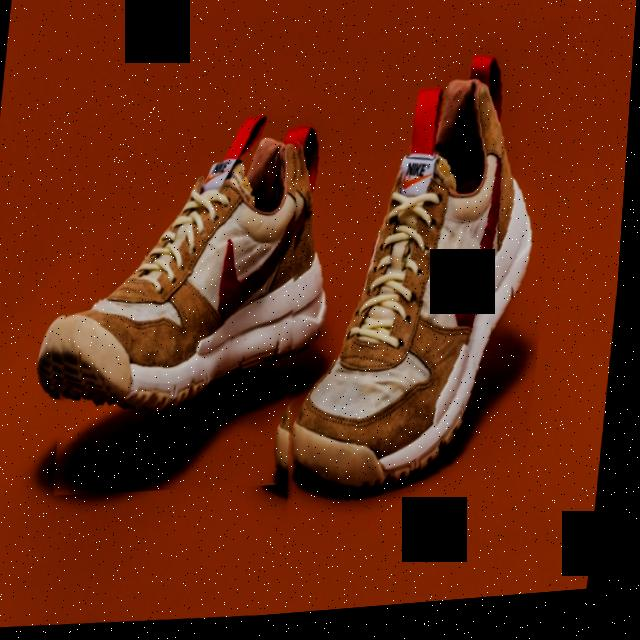shoe: (254, 17, 572, 573), (44, 55, 353, 506)
